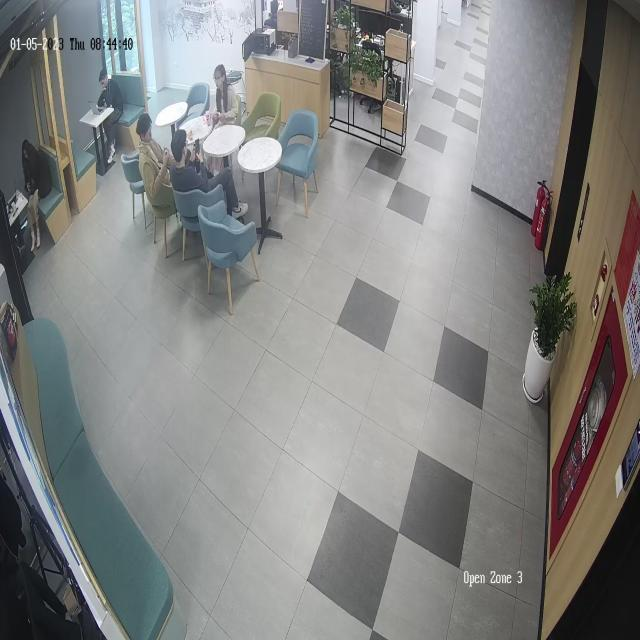person: (169, 127, 251, 222), (19, 136, 54, 254), (136, 113, 174, 205), (96, 65, 125, 163), (213, 63, 236, 115)
